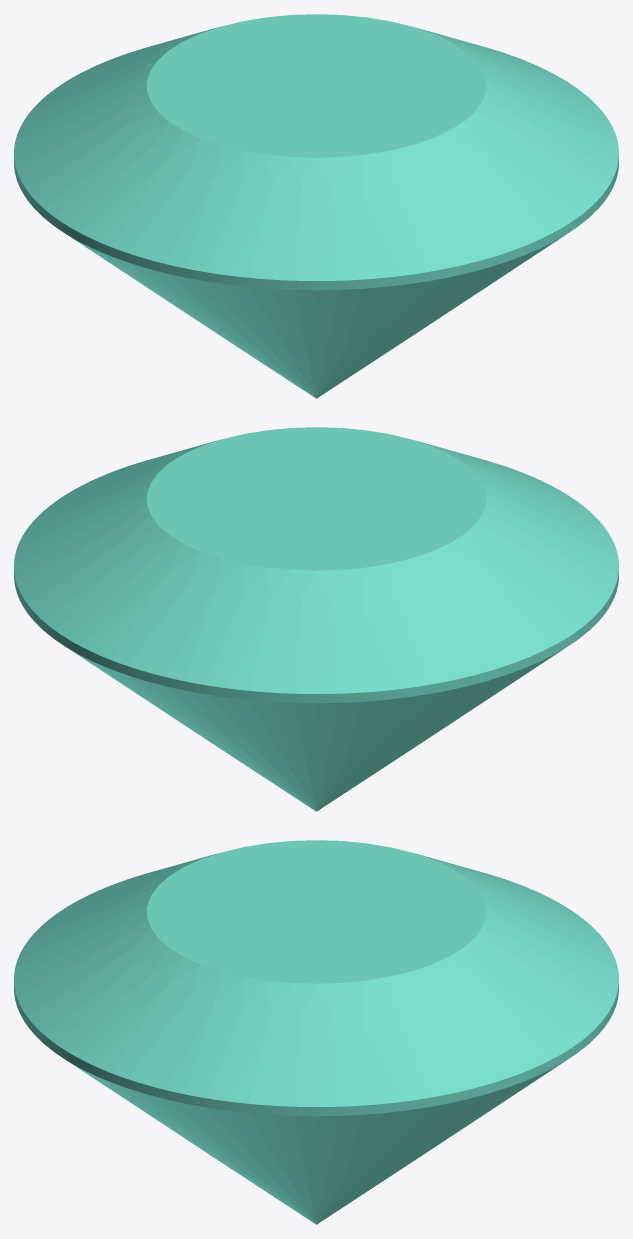
The model's file is Gem.gltf.
The picture shows the model from 3 angles, top to bottom: view 1: azimuth 30°, elevation 25°; view 2: azimuth 150°, elevation 25°; view 3: azimuth 270°, elevation 25°; orthographic projection.
Parts seen in each view (by area): view 1: Gem; view 2: Gem; view 3: Gem.
Part boxes in pixels (x1,y1,x2,y2): Gem: [14, 14, 618, 398]; Gem: [14, 427, 618, 811]; Gem: [14, 840, 618, 1224].
Size of the model in its own units: 2 by 1.14 by 2.
